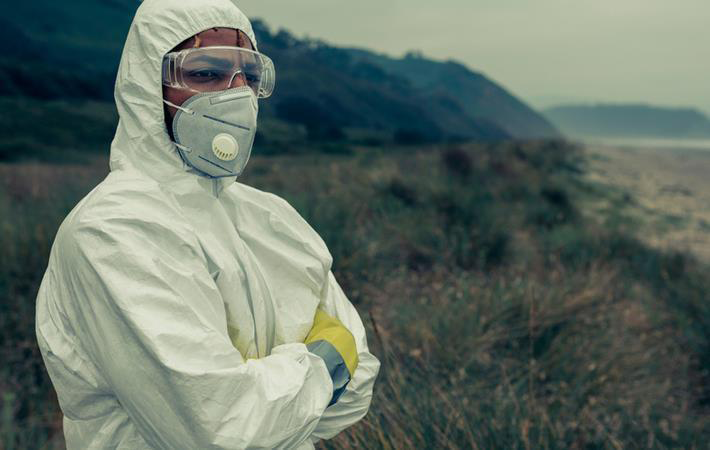Coverall: (35, 1, 377, 446)
Goggles: (161, 46, 278, 99)
with_mask: (175, 88, 262, 176)
